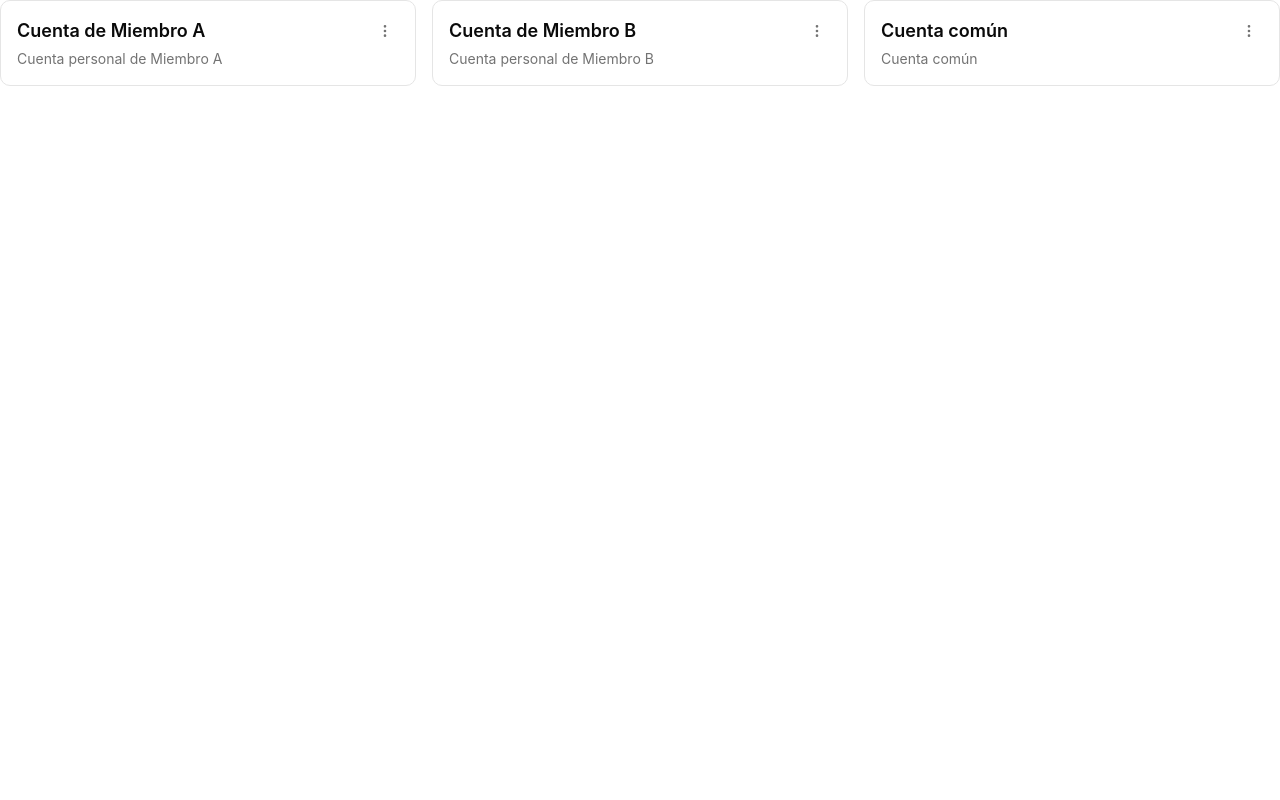
Test: AccountCardGrid › tarjeta común: ⋮ con único ítem «Renombrar cuenta», sin «Renombrar miembro» ni ítems de config
What coordinates should you click on to do the following:
click the button named "Configuración de Cuenta común"
I would click on:
 (1249, 31)
Its box is [1227,9,1271,53].
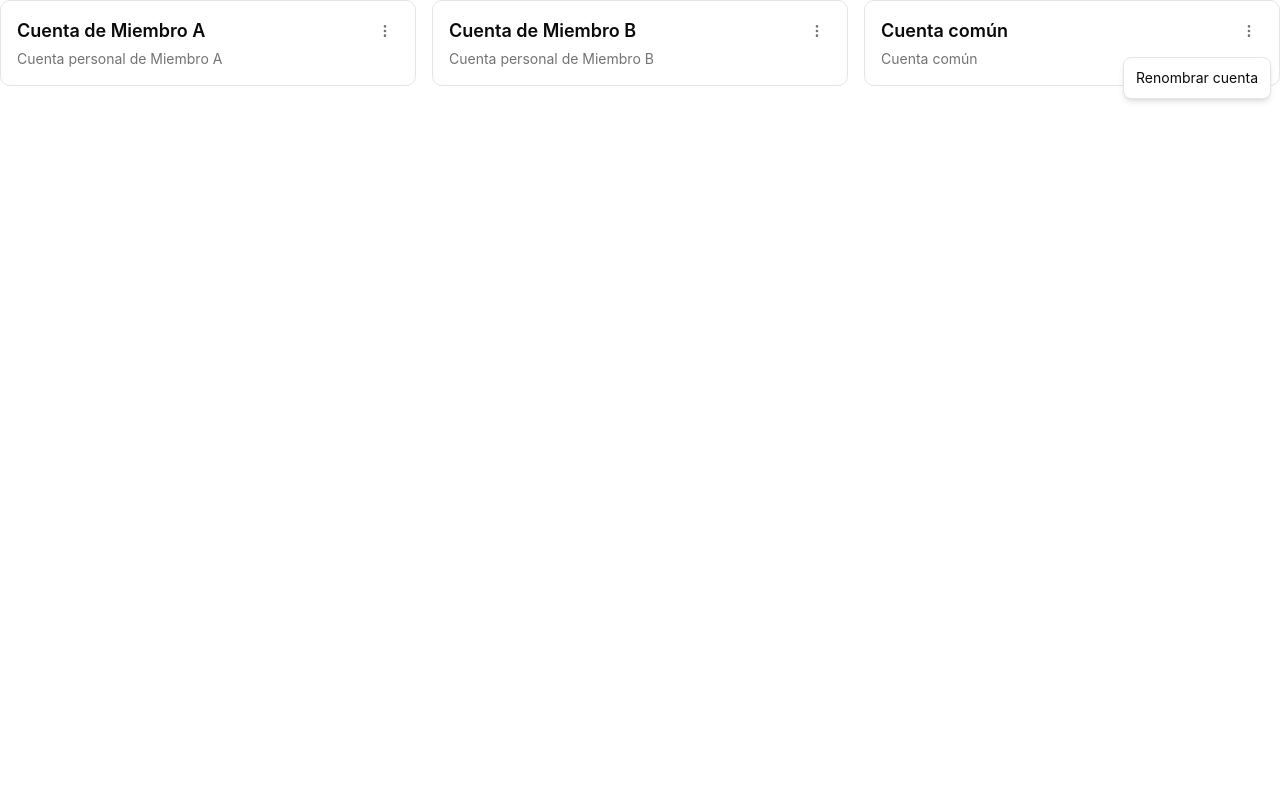
Check: the menu items read "Renombrar cuenta", in this order
What coordinates should you click on to do the following:
click the menu item "Renombrar cuenta"
I would click on:
 (1197, 78)
Its box is [1136,69,1258,86].
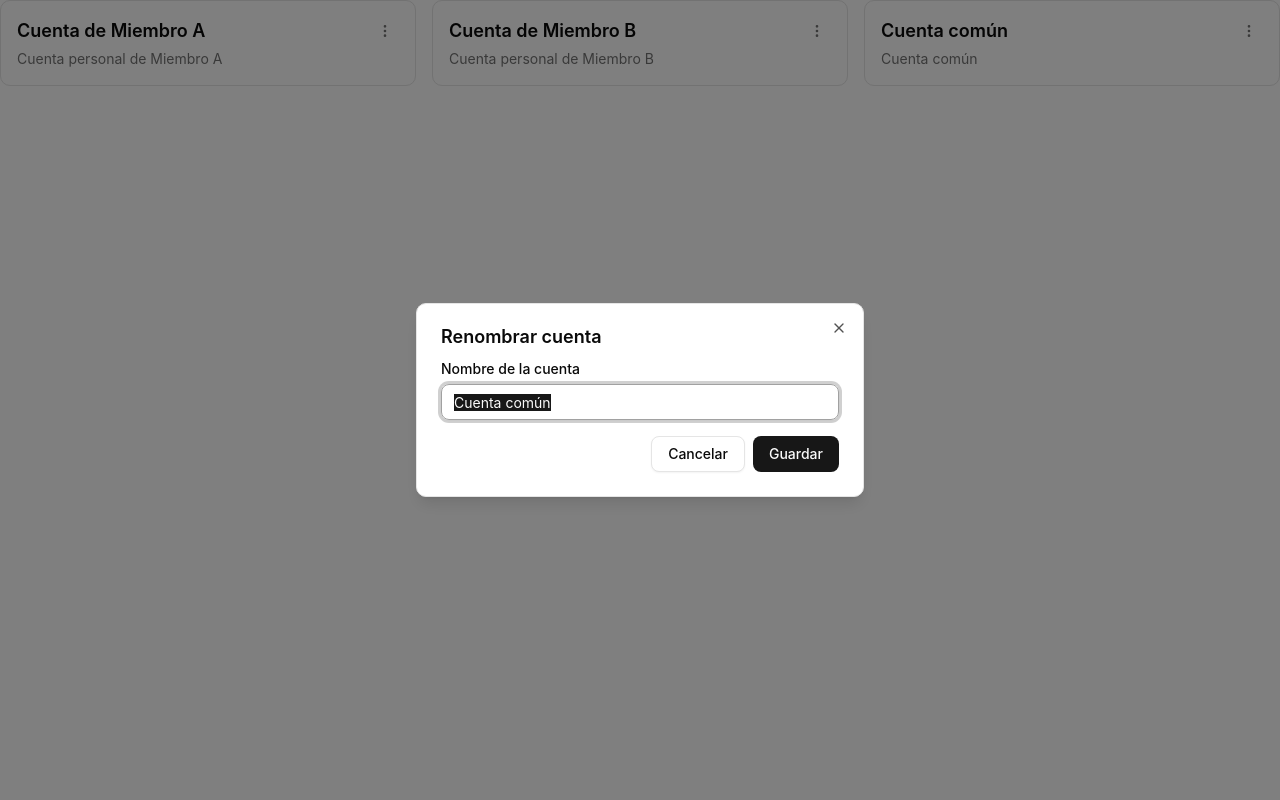
Check: the menu is gone
Check: the field labelled "Nombre de la cuenta" holds "Cuenta común", box [441,384,839,420]
